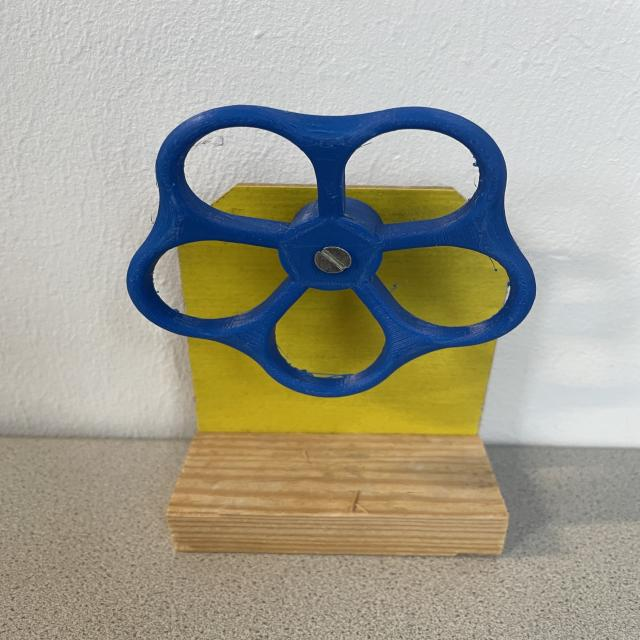Wheel Handle Valve Threaded: (125, 103, 537, 398)
